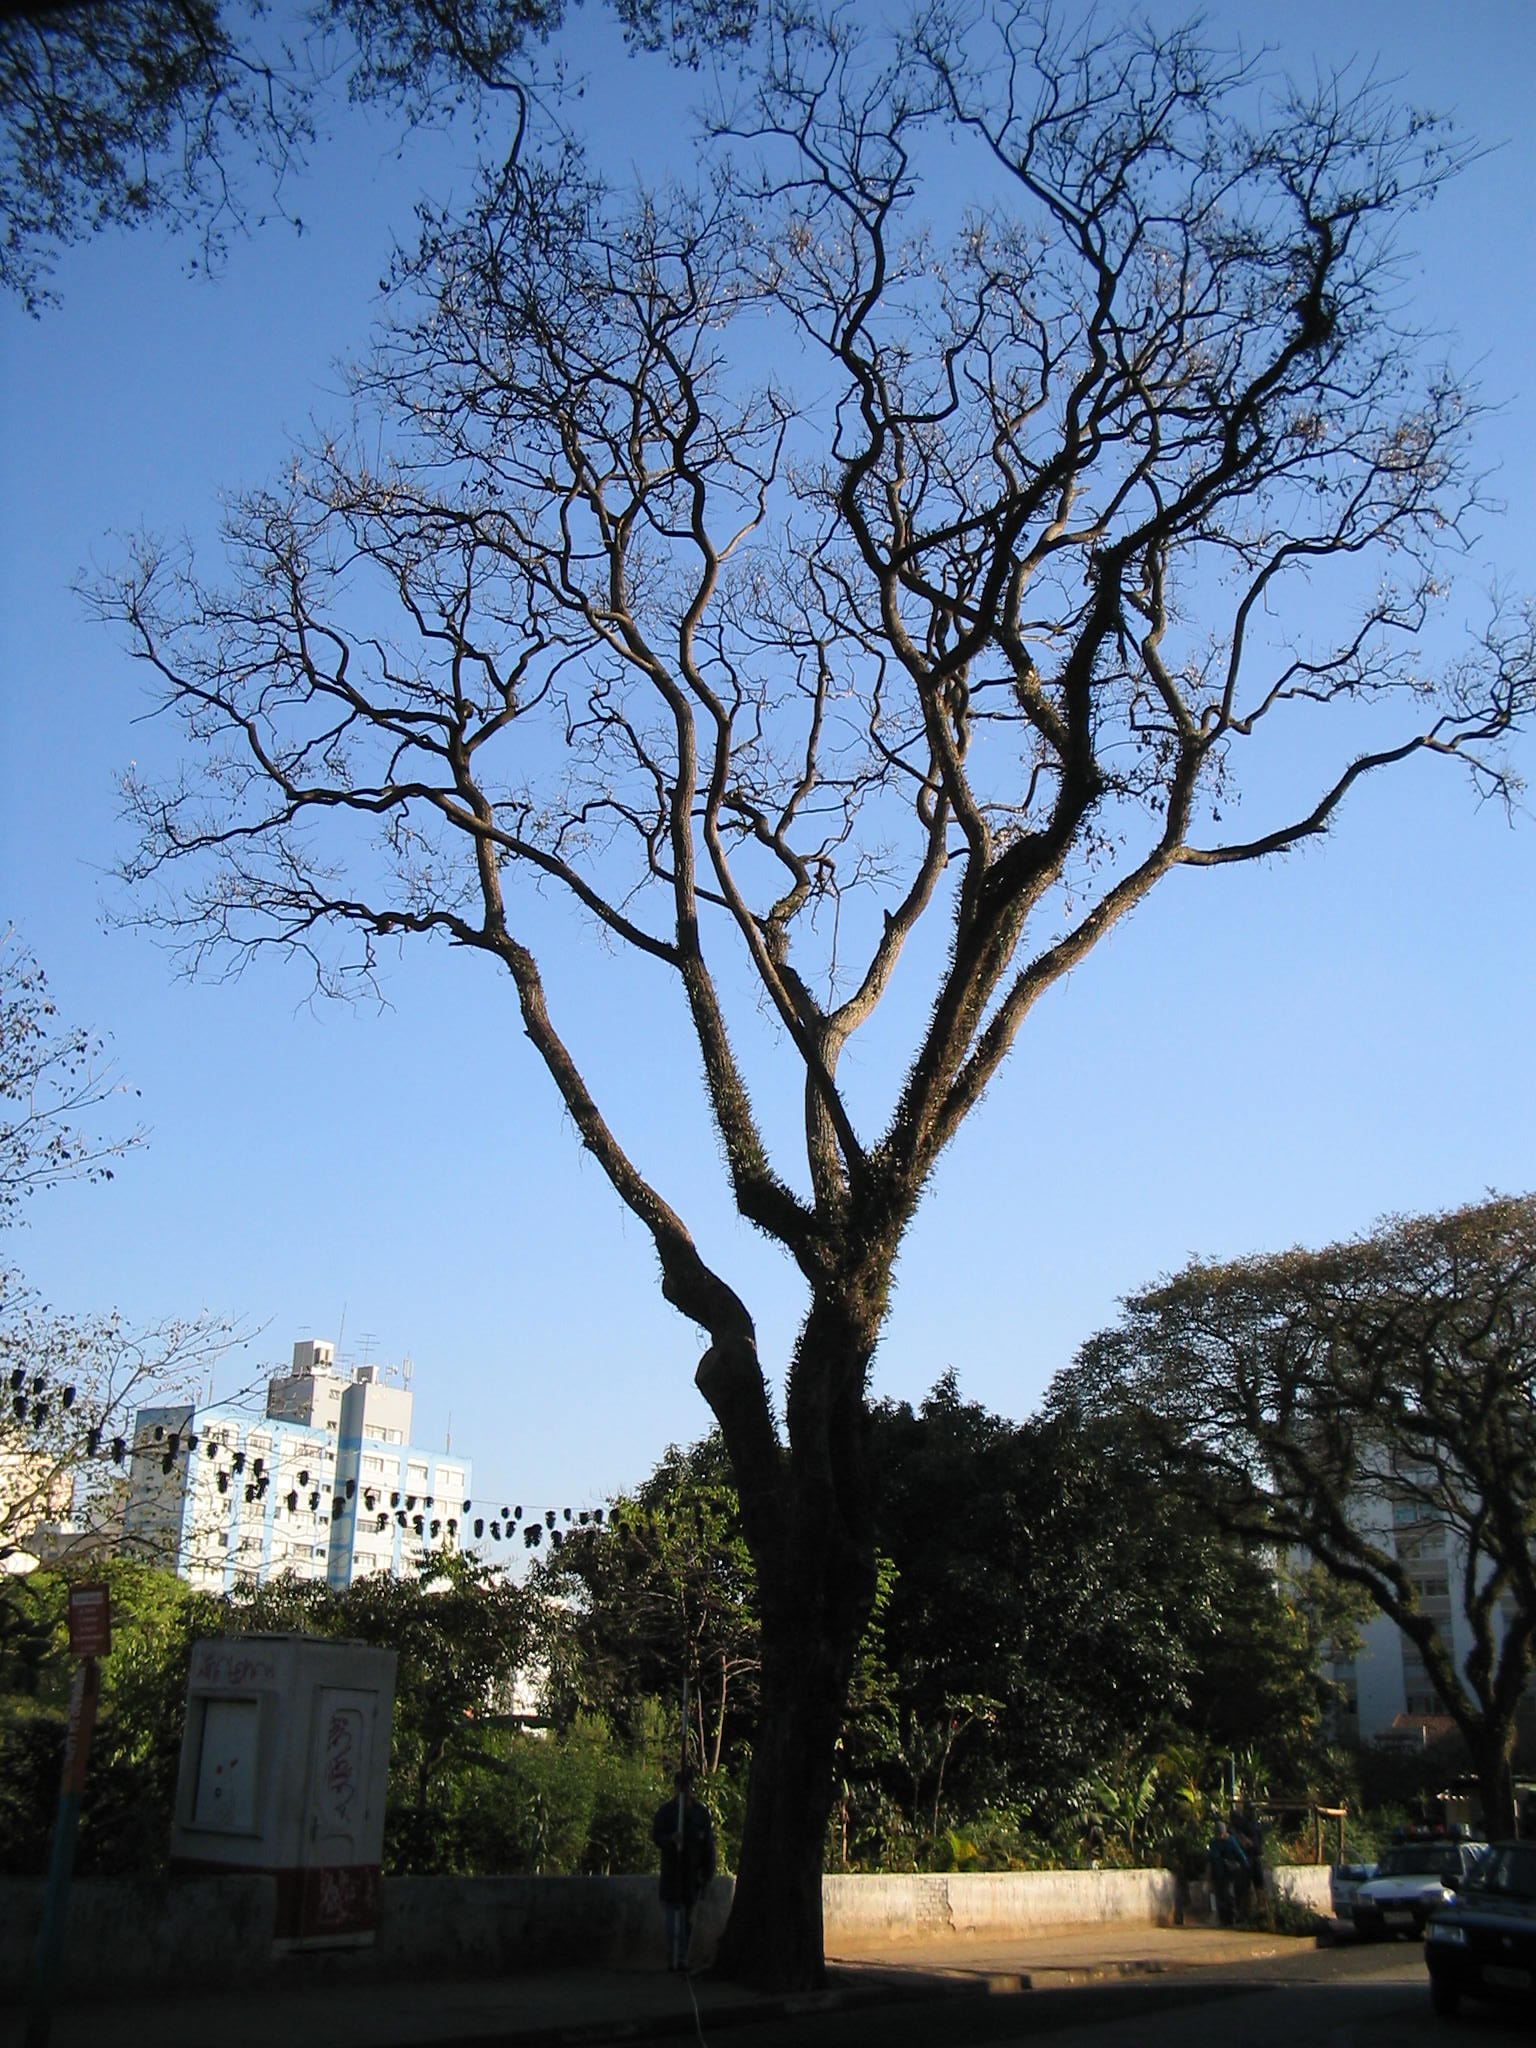crown: (1046, 1213, 1521, 1621)
stem: (703, 1492, 912, 1992), (1433, 1729, 1533, 1846)
stick: (644, 1617, 715, 1969)
tree: (74, 16, 1525, 2000), (1037, 1208, 1536, 1848)
